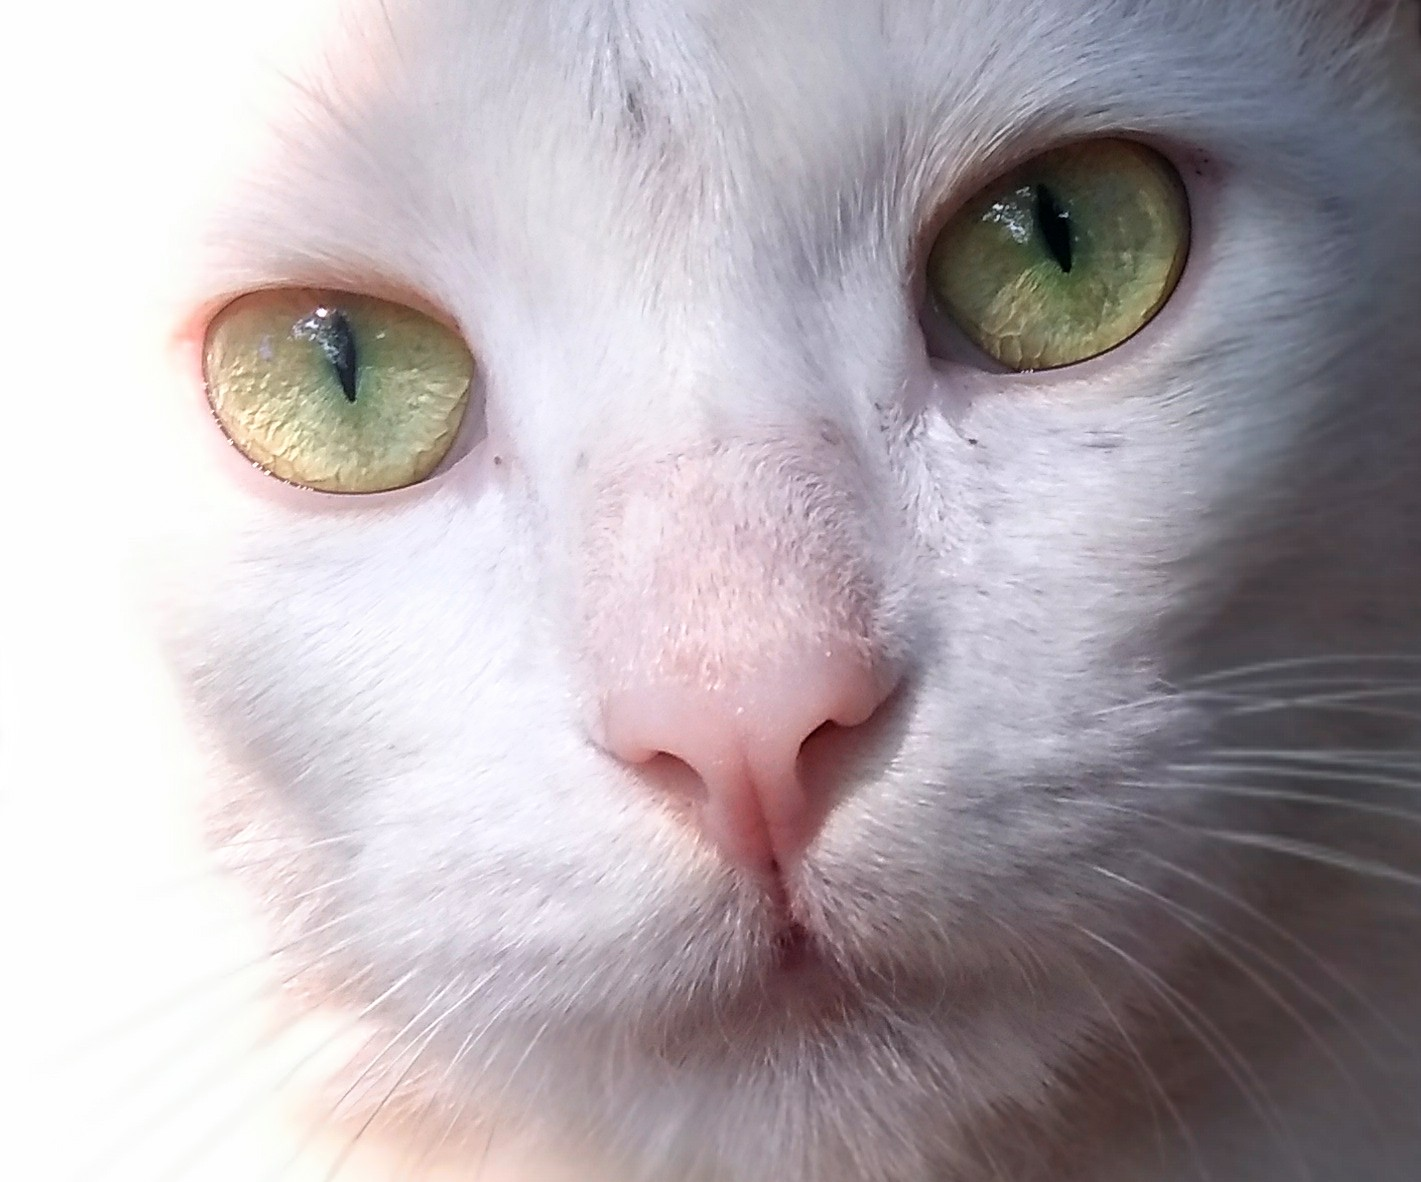cat-face: (26, 12, 1421, 1147)
